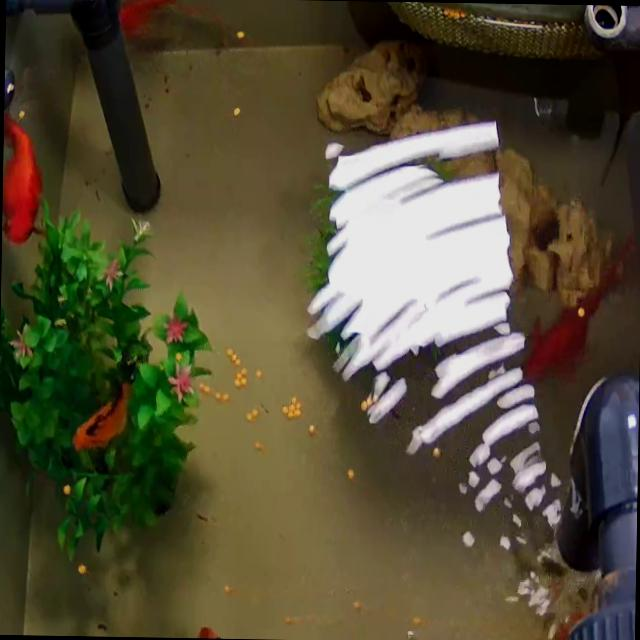fish: (521, 233, 640, 385), (1, 112, 46, 245), (71, 374, 134, 454), (116, 0, 229, 41)
